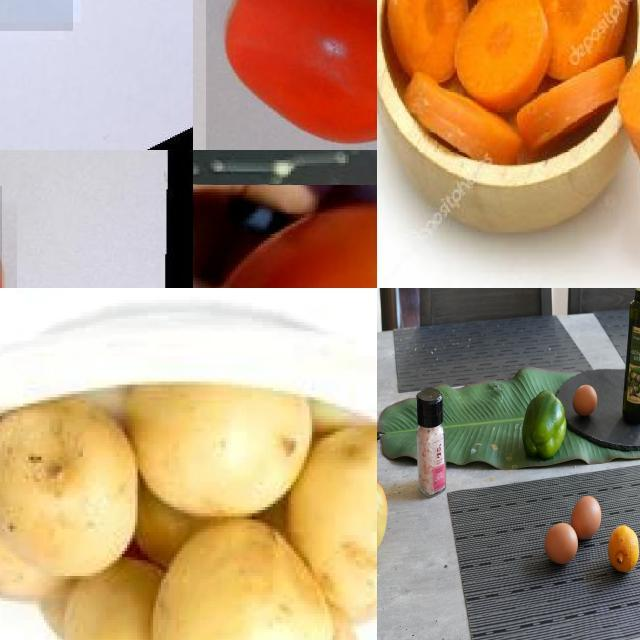bell_pepper: (520, 389, 572, 463)
egg: (544, 523, 576, 567), (574, 495, 601, 540), (572, 383, 596, 421)
potato: (124, 386, 311, 526), (1, 405, 137, 578), (146, 516, 331, 640), (293, 443, 378, 620), (1, 429, 85, 603), (76, 551, 203, 640), (129, 493, 186, 571), (39, 587, 78, 640)
tomato: (207, 1, 378, 151), (194, 185, 378, 289)
